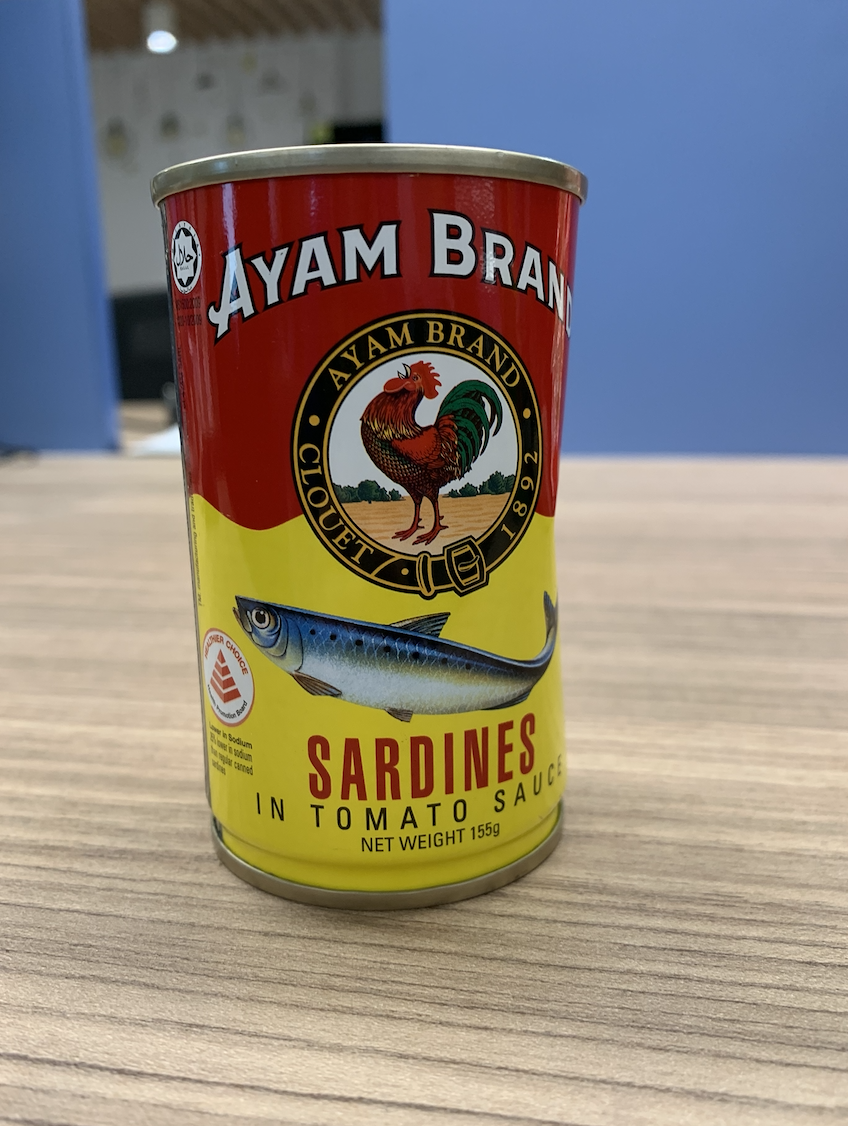sardines_100g-199g: (192, 190, 556, 854)
